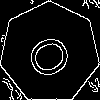O: (25, 27, 82, 82)
